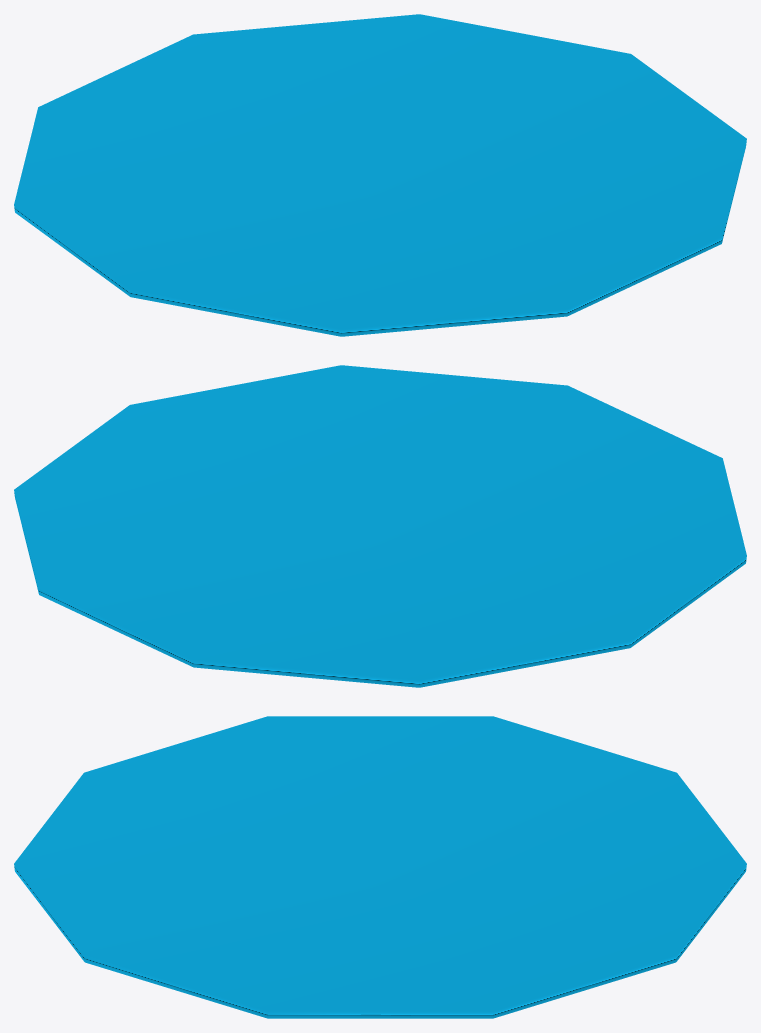
Rendered from Plate_01_Lod2.fbx.
The picture shows the model from 3 angles, top to bottom: view 1: azimuth 30°, elevation 25°; view 2: azimuth 150°, elevation 25°; view 3: azimuth 270°, elevation 25°; orthographic projection. The views are drawn at different scales.
Parts seen in each view (by area): view 1: Plate_01_Lod2; view 2: Plate_01_Lod2; view 3: Plate_01_Lod2.
Boxes of the visible parts, x1,y1,x2,y2 form: Plate_01_Lod2: (14,14,746,336); Plate_01_Lod2: (14,365,746,687); Plate_01_Lod2: (14,716,746,1018).
Size of the model in its own units: 27.52 by 2.15 by 28.93.
